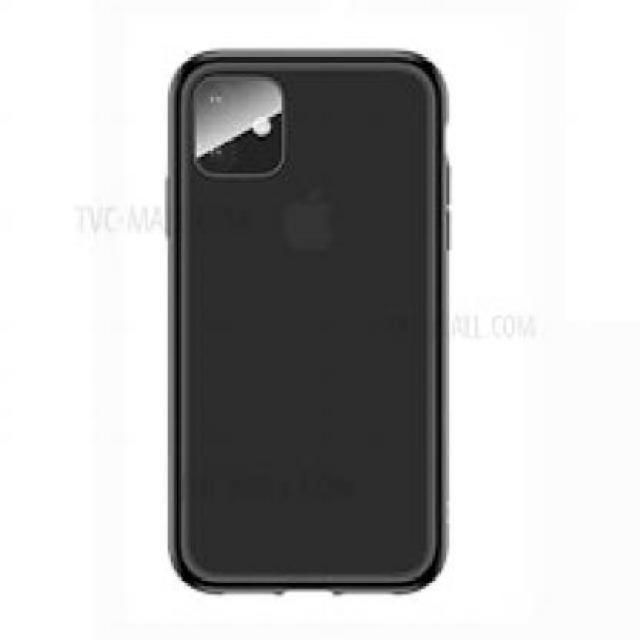fake: (170, 48, 447, 594)
